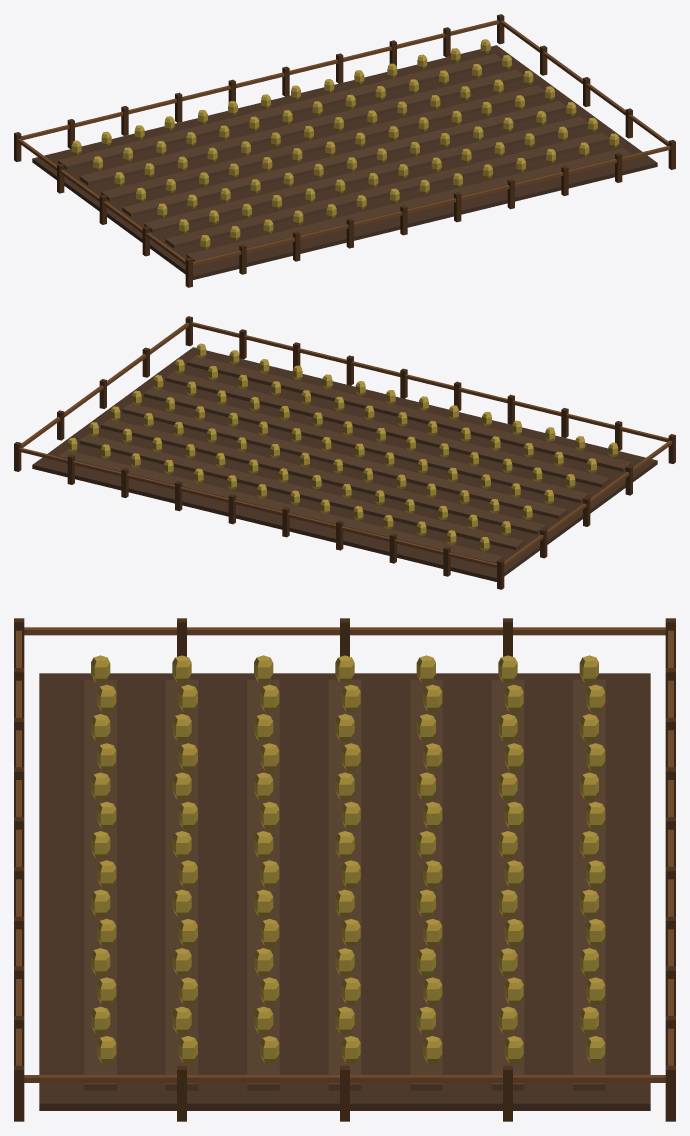
Rendered from field_grain.glb.
3 views of the same model, one above another, from view 1: azimuth 30°, elevation 25°; view 2: azimuth 150°, elevation 25°; view 3: azimuth 270°, elevation 25° (orthographic). The views are drawn at different scales.
Visible parts, largest first — view 1: field_grain; view 2: field_grain; view 3: field_grain.
Part boxes in pixels (<box>): field_grain: <box>14,14,675,287</box>; field_grain: <box>14,316,675,589</box>; field_grain: <box>14,618,675,1121</box>.
Size of the model in its own units: 5.25 by 0.28 by 3.25.
